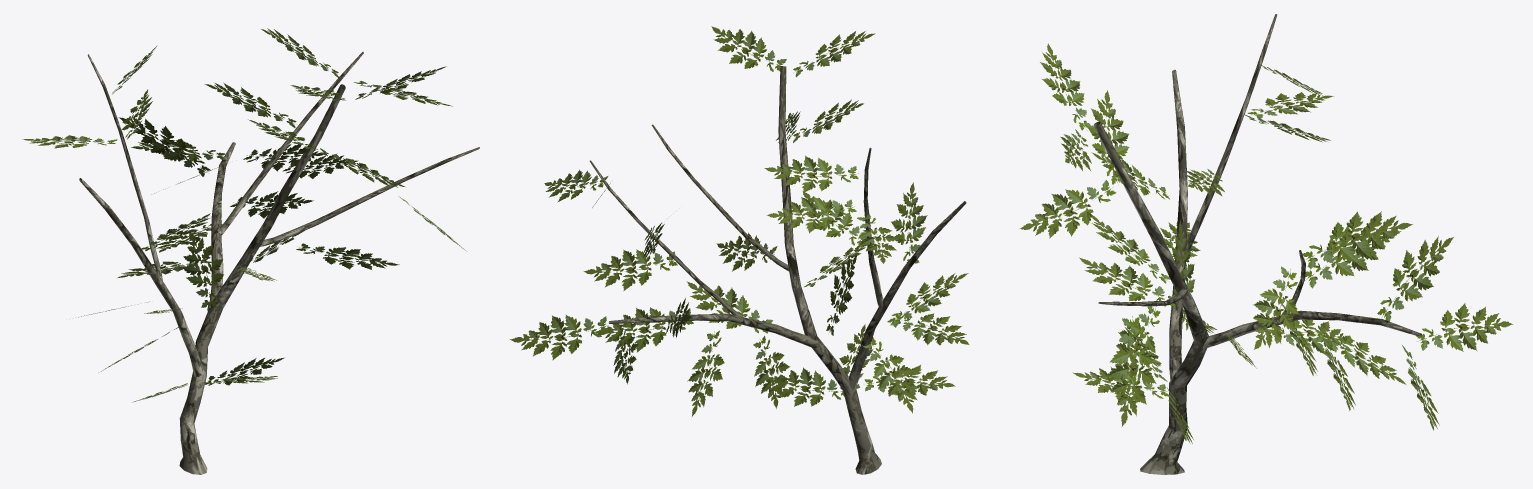
File: Branch05.fbx
3 views of the same model, side by side, from view 1: azimuth 30°, elevation 25°; view 2: azimuth 150°, elevation 25°; view 3: azimuth 270°, elevation 25° (orthographic). The views are drawn at different scales.
Parts seen in each view (by area): view 1: Branch05; view 2: Branch05; view 3: Branch05.
Boxes of the visible parts, <box> form: Branch05: <box>22,28,479,474</box>; Branch05: <box>510,26,969,474</box>; Branch05: <box>1019,14,1512,474</box>.
Size of the model in its own units: 120 by 112 by 113.
